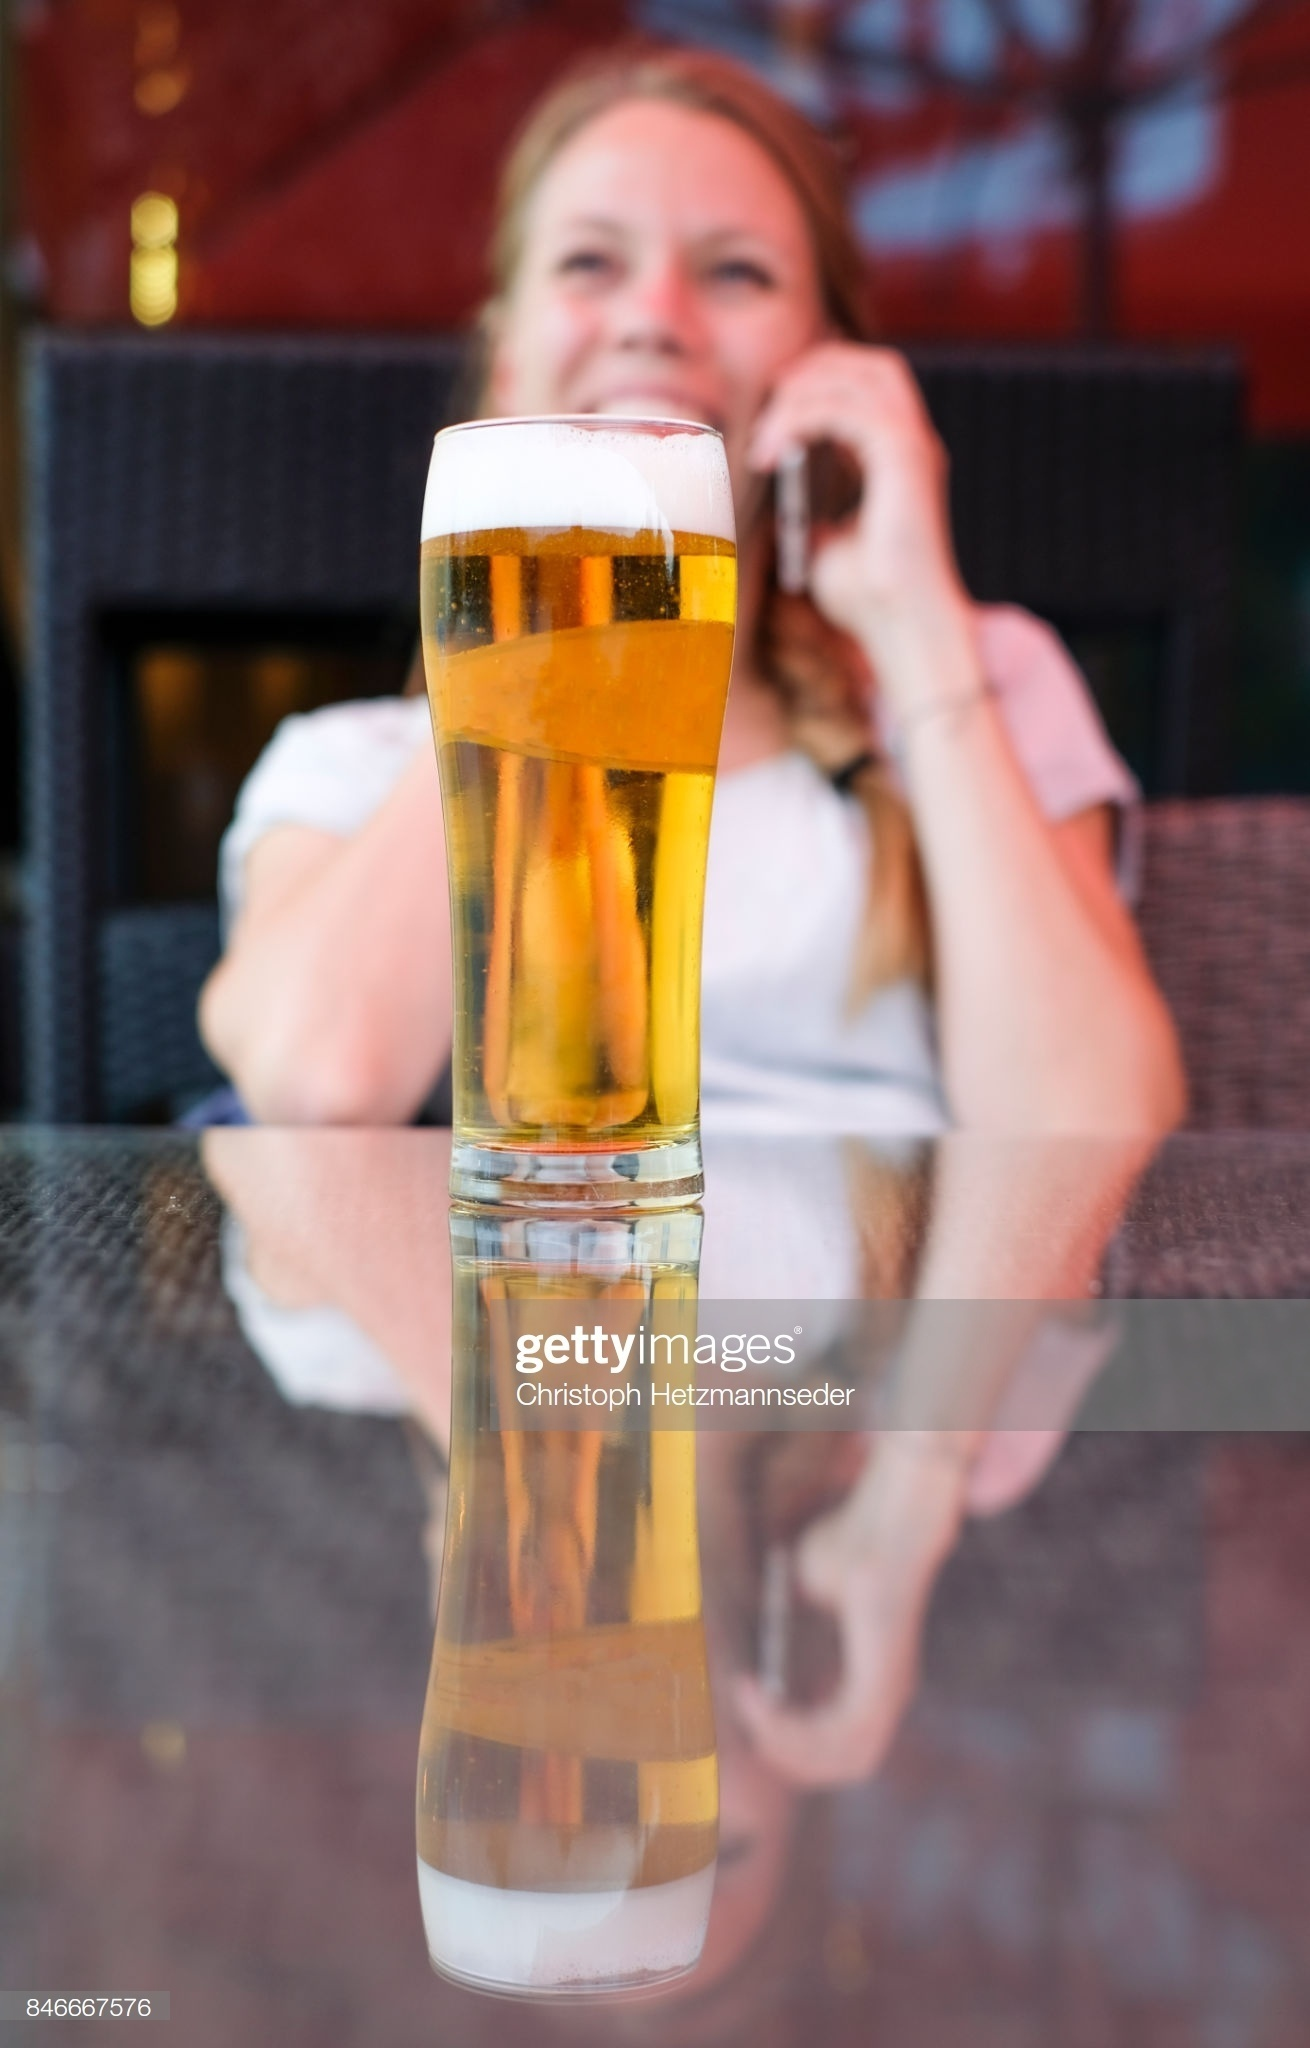whiskey: (422, 408, 734, 1205)
